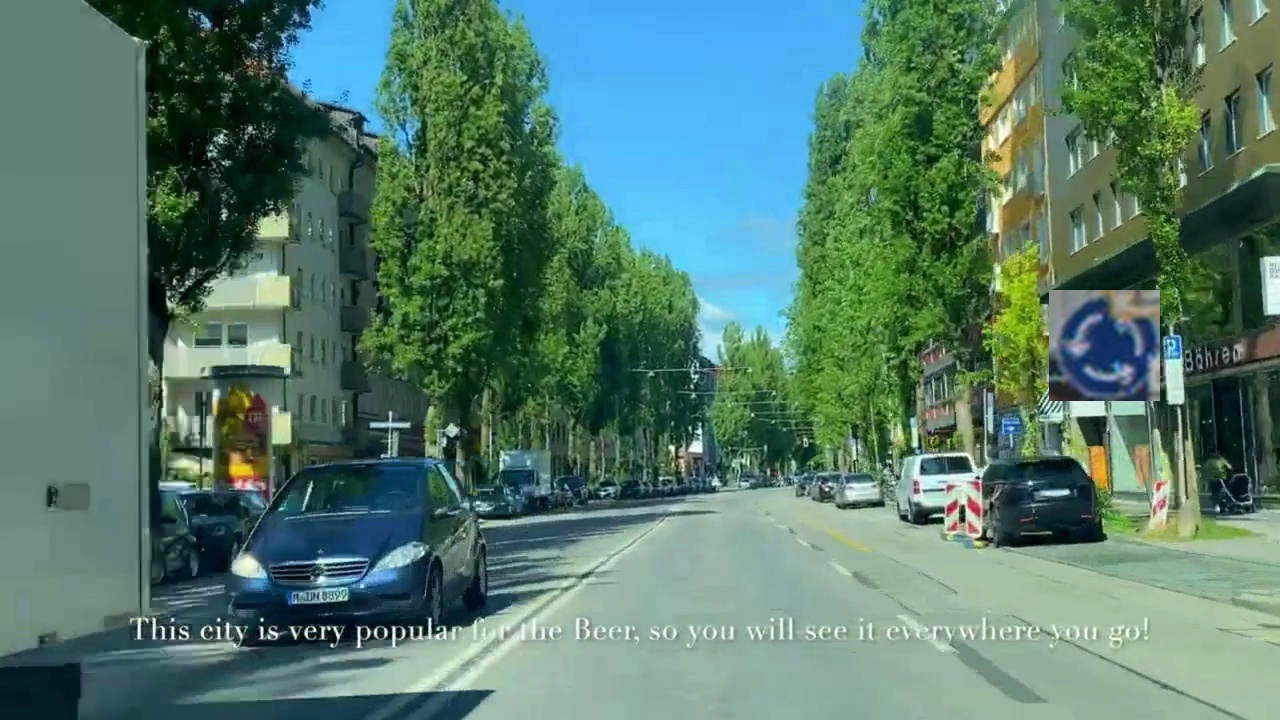Roundabout: (1049, 290, 1160, 401)
